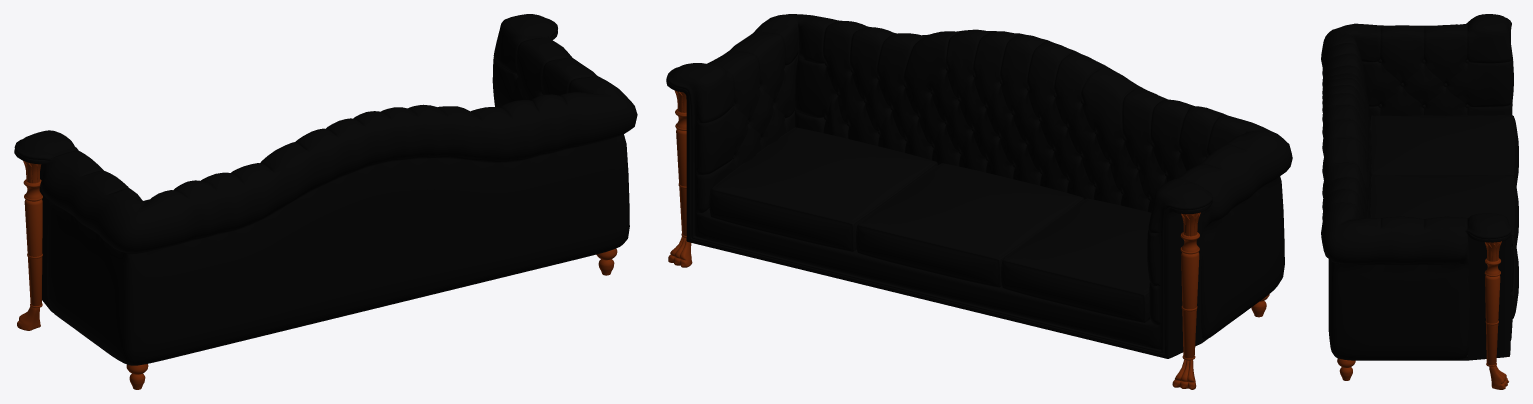
File: model_Historical_Sofa.fbx
3 views of the same model, side by side, from view 1: azimuth 30°, elevation 25°; view 2: azimuth 150°, elevation 25°; view 3: azimuth 270°, elevation 25° (orthographic). The views are drawn at different scales.
Visible parts, largest first — view 1: oldman_sofa_low; view 2: oldman_sofa_low; view 3: oldman_sofa_low.
Boxes of the visible parts, box(x1,y1,x2,y2) form: oldman_sofa_low: box(14, 14, 637, 389); oldman_sofa_low: box(666, 14, 1292, 389); oldman_sofa_low: box(1321, 14, 1518, 389).
Size of the model in its own units: 251 by 98.04 by 94.43.
